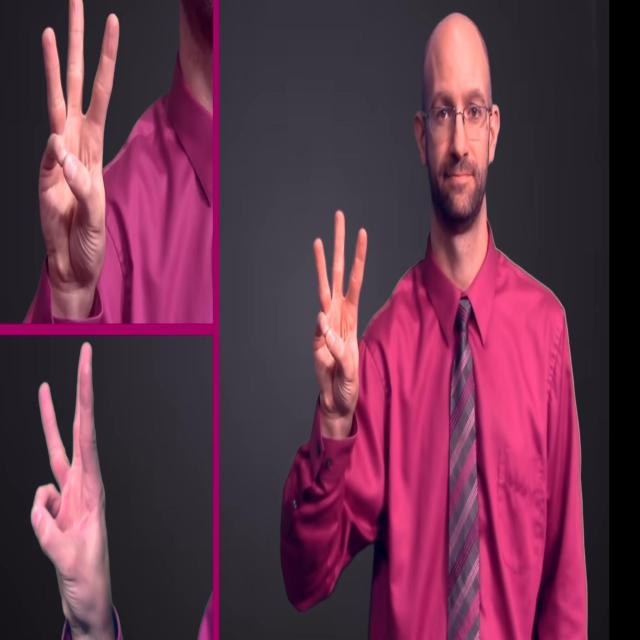W: (28, 340, 120, 640), (35, 0, 124, 286), (309, 207, 372, 419)
